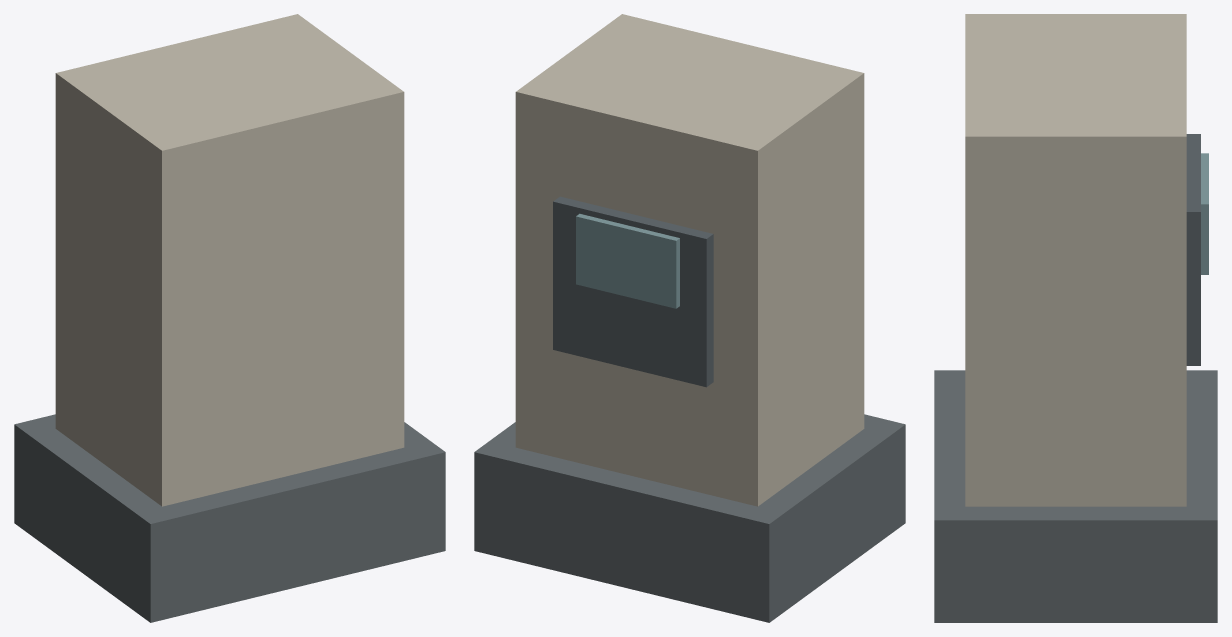
File: iz3_health_cooler_01.glb
3 views of the same model, side by side, from view 1: azimuth 30°, elevation 25°; view 2: azimuth 150°, elevation 25°; view 3: azimuth 270°, elevation 25° (orthographic). The views are drawn at different scales.
Visible parts, largest first — view 1: cabinet, base; view 2: cabinet, base, panel, display; view 3: cabinet, base, panel, display.
Boxes of the visible parts, x1,y1,x2,y2 form: cabinet: (55, 14, 404, 506); base: (14, 414, 445, 622); cabinet: (515, 14, 864, 506); base: (474, 414, 905, 622); panel: (553, 196, 713, 387); display: (576, 213, 679, 308); cabinet: (965, 14, 1186, 506); base: (934, 370, 1217, 622); panel: (1186, 134, 1200, 365); display: (1201, 153, 1208, 274).
Bounding box in the file's own units: 1 × 1.47 × 0.8.
